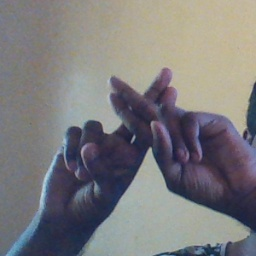F: (77, 62, 215, 181)
